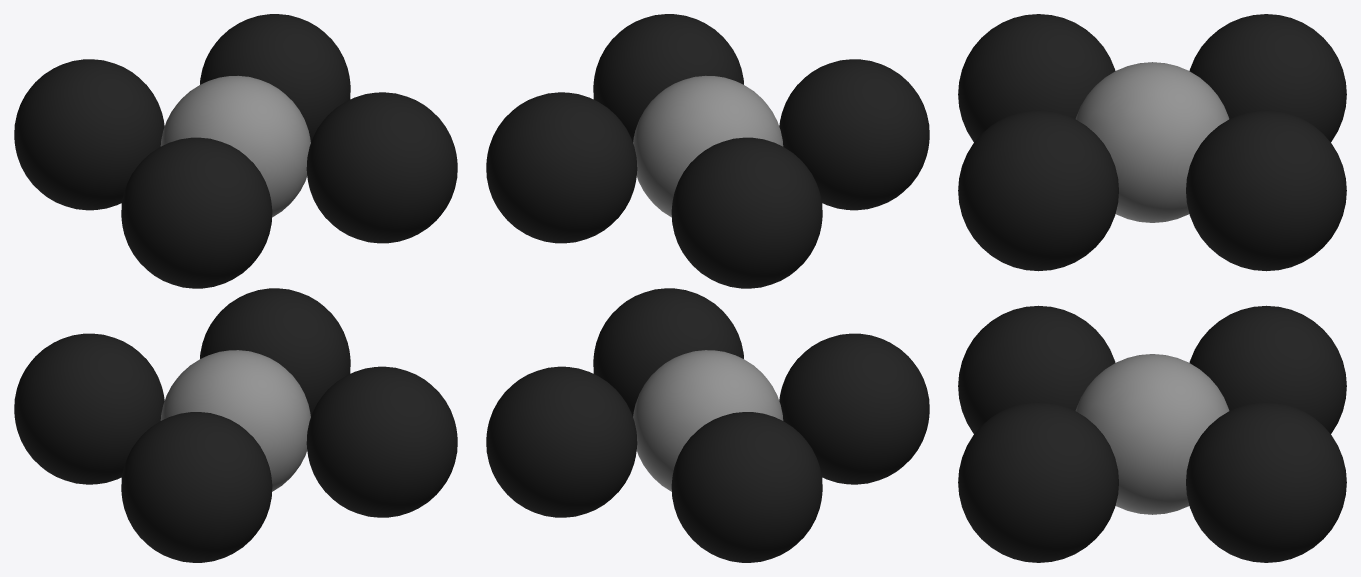
File: solid_state_qn_005.glb
3 views of the same model, side by side, from view 1: azimuth 30°, elevation 25°; view 2: azimuth 150°, elevation 25°; view 3: azimuth 270°, elevation 25° (orthographic). The views are drawn at different scales.
Parts seen in each view (by area): view 1: Icosphere.029, Icosphere.032, Icosphere.024, Icosphere.027, Icosphere.026, Icosphere.031, Icosphere.033, Icosphere.028, Icosphere.025, Icosphere.030; view 2: Icosphere.030, Icosphere.031, Icosphere.025, Icosphere.026, Icosphere.027, Icosphere.032, Icosphere.028, Icosphere.033, Icosphere.024, Icosphere.029; view 3: Icosphere.024, Icosphere.025, Icosphere.029, Icosphere.030, Icosphere.028, Icosphere.033, Icosphere.031, Icosphere.032, Icosphere.027, Icosphere.026.
Boxes of the visible parts, x1,y1,x2,y2 form: Icosphere.029: [306, 92, 457, 243]; Icosphere.032: [121, 137, 272, 288]; Icosphere.024: [306, 366, 457, 517]; Icosphere.027: [121, 412, 272, 562]; Icosphere.026: [14, 333, 164, 484]; Icosphere.031: [14, 59, 164, 210]; Icosphere.033: [160, 75, 310, 217]; Icosphere.028: [160, 350, 310, 491]; Icosphere.025: [200, 288, 350, 416]; Icosphere.030: [200, 14, 350, 142]; Icosphere.030: [486, 92, 637, 243]; Icosphere.031: [671, 137, 822, 288]; Icosphere.025: [486, 366, 637, 517]; Icosphere.026: [671, 412, 822, 562]; Icosphere.027: [779, 333, 929, 484]; Icosphere.032: [779, 59, 929, 210]; Icosphere.028: [633, 350, 783, 491]; Icosphere.033: [633, 75, 783, 217]; Icosphere.024: [593, 288, 743, 416]; Icosphere.029: [593, 14, 743, 142]; Icosphere.024: [958, 402, 1118, 562]; Icosphere.025: [1186, 402, 1346, 562]; Icosphere.029: [958, 110, 1118, 271]; Icosphere.030: [1186, 110, 1346, 271]; Icosphere.028: [1075, 354, 1229, 514]; Icosphere.033: [1075, 62, 1229, 222]; Icosphere.031: [1189, 14, 1346, 142]; Icosphere.032: [958, 14, 1115, 142]; Icosphere.027: [958, 305, 1115, 433]; Icosphere.026: [1189, 305, 1346, 433].
Size of the model in its own units: 4.83 by 6 by 4.83.
Materials: 1 (1 with a texture image).
